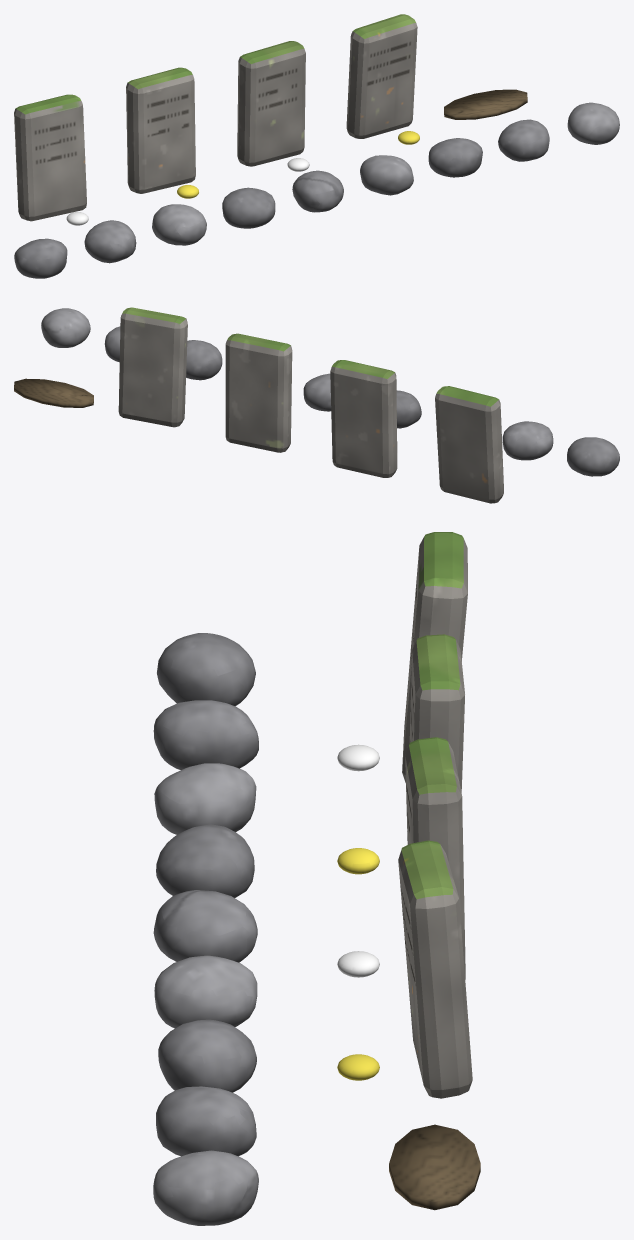
The model's file is graves.glb.
The picture shows the model from 3 angles, top to bottom: view 1: azimuth 30°, elevation 25°; view 2: azimuth 150°, elevation 25°; view 3: azimuth 270°, elevation 25°; orthographic projection. The views are drawn at different scales.
Parts seen in each view (by area): view 1: Graves; view 2: Graves; view 3: Graves.
Part boxes in pixels (x1,y1,x2,y2): Graves: (14, 14, 619, 278); Graves: (14, 307, 619, 503); Graves: (153, 532, 480, 1225).
Size of the model in its own units: 4.34 by 0.7799 by 1.07.
1 material, 1 textured.
